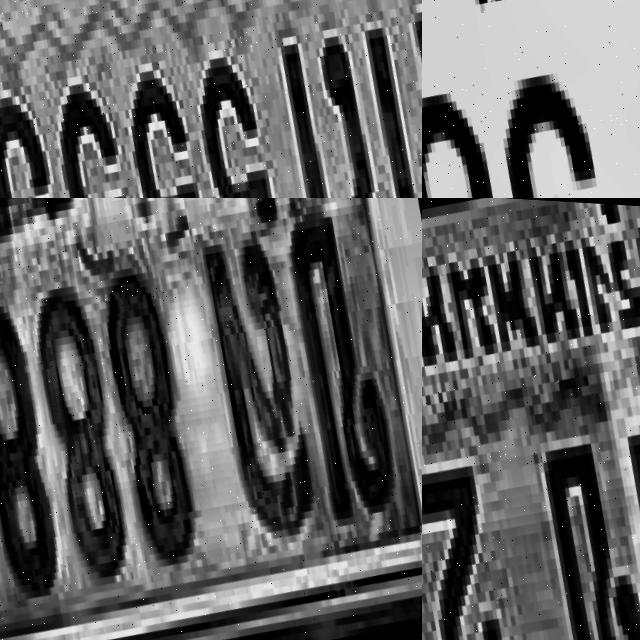license-plate: (0, 198, 422, 640), (422, 198, 640, 640), (0, 0, 422, 198), (422, 0, 640, 198)
